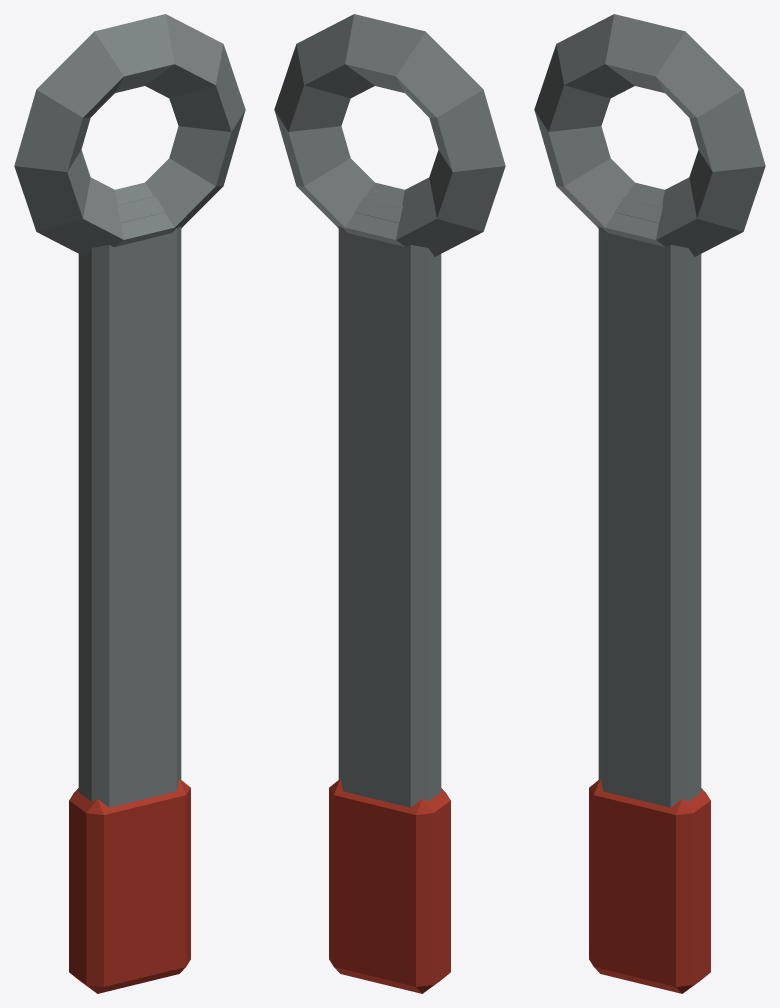
3 views of the same model, side by side, from view 1: azimuth 30°, elevation 25°; view 2: azimuth 150°, elevation 25°; view 3: azimuth 330°, elevation 25° (orthographic).
Visible parts, largest first — view 1: co_le; view 2: co_le; view 3: co_le.
Part boxes in pixels (<box>): co_le: <box>14,14,245,993</box>; co_le: <box>274,14,505,993</box>; co_le: <box>534,14,765,993</box>.
Bounding box in the file's own units: 0.062 × 0.2445 × 0.018.
